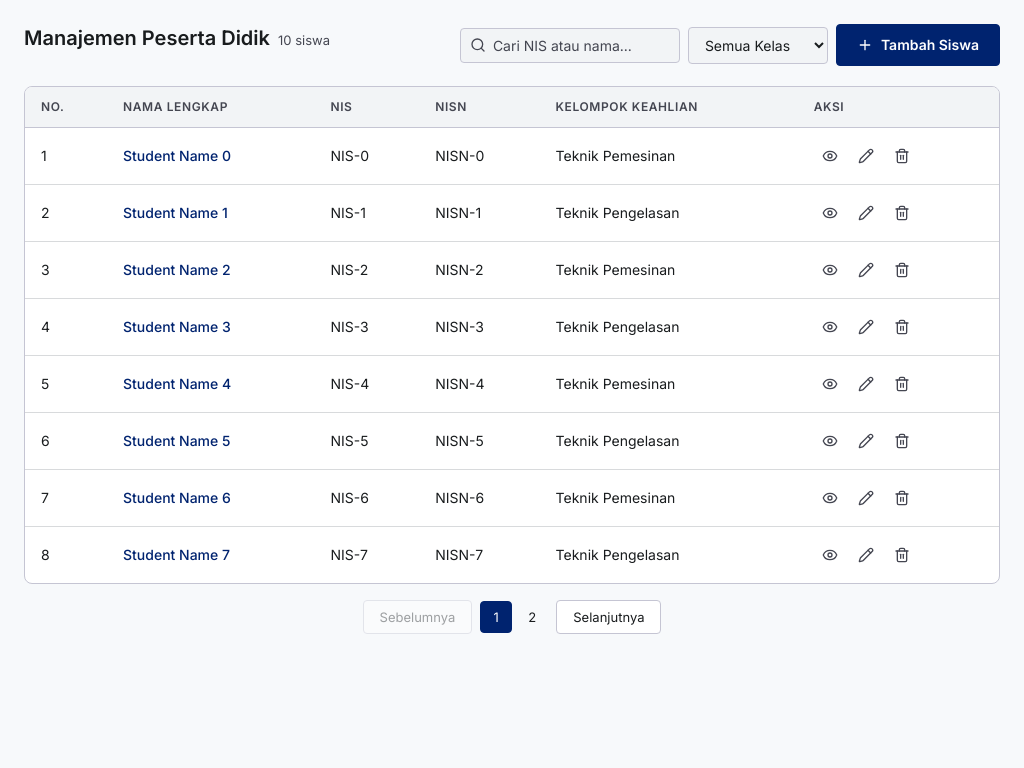
Test: Student List Page › handles search queries correctly
Expected: the link "Student Name 0" is shown, [123,147,231,164]
# Search by name
Type "Student Name 3" into the search field with placeholder "Cari NIS atau nama..." at (570, 45), box [460,28,680,62]
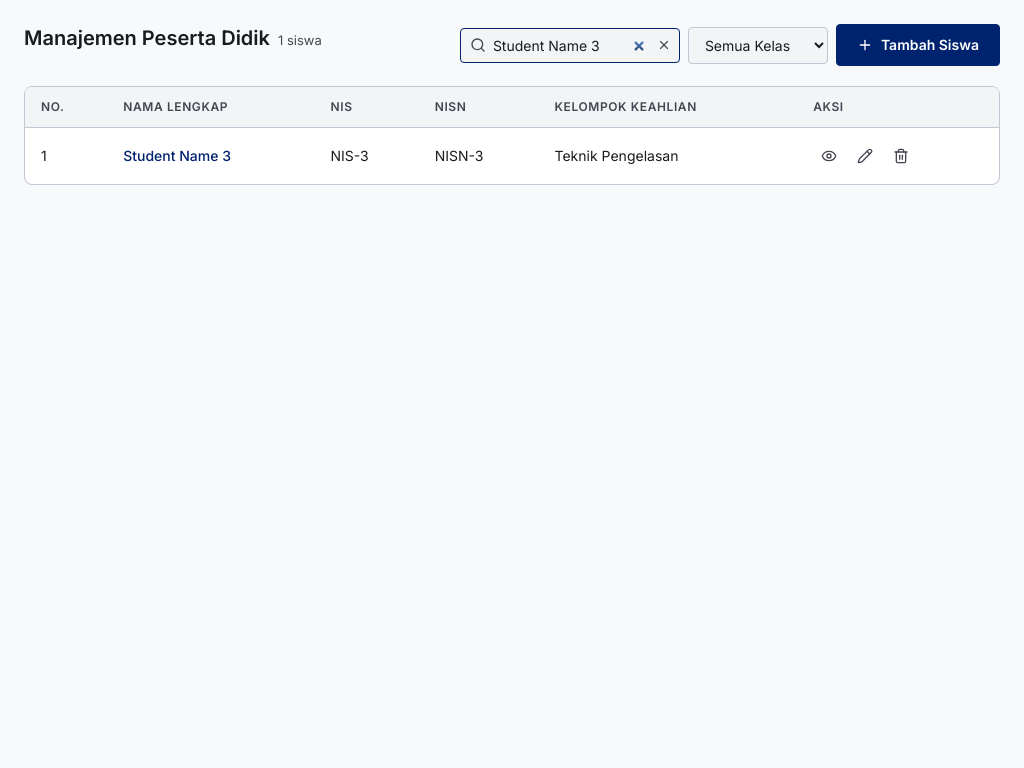
Expected: the link "Student Name 3" is shown, [123,147,231,164]
Expected: the link "Student Name 0" is gone
Expected: the text "1 siswa" is shown, [278,31,322,49]
# Clear search
Click the button named "Hapus pencarian" at (664, 45), box [654,35,674,55]
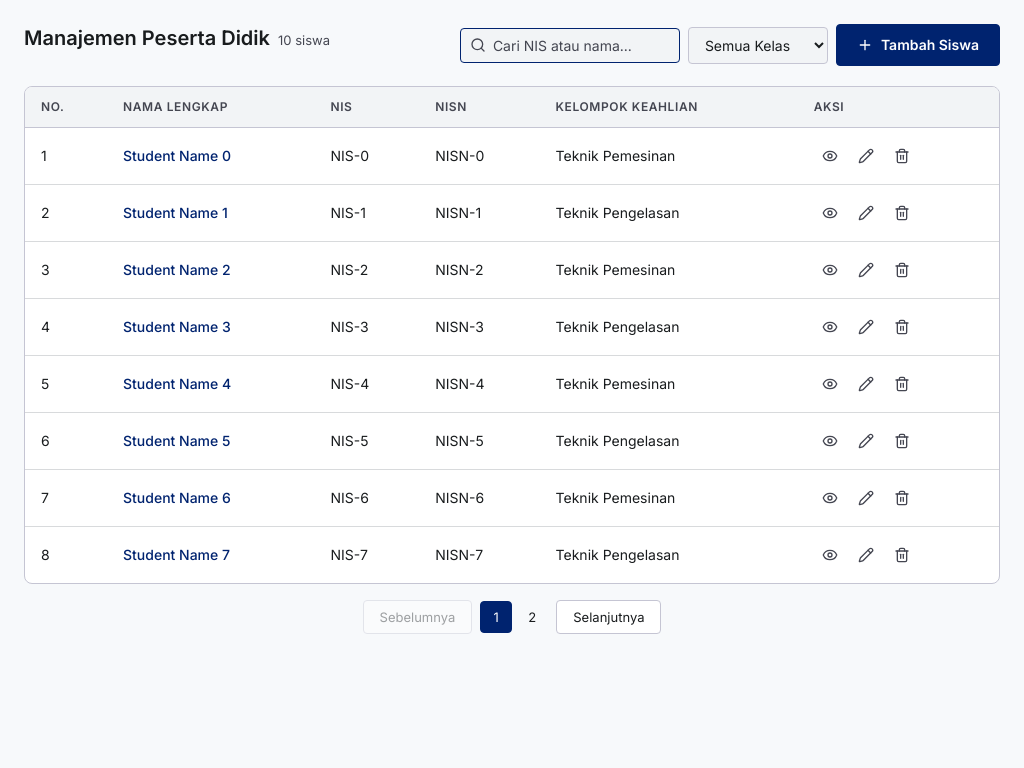
Expected: the link "Student Name 0" is shown, [123,147,231,164]
# Search by NIS
Type "NIS-9" into the search field with placeholder "Cari NIS atau nama..." at (570, 45), box [460,28,680,62]
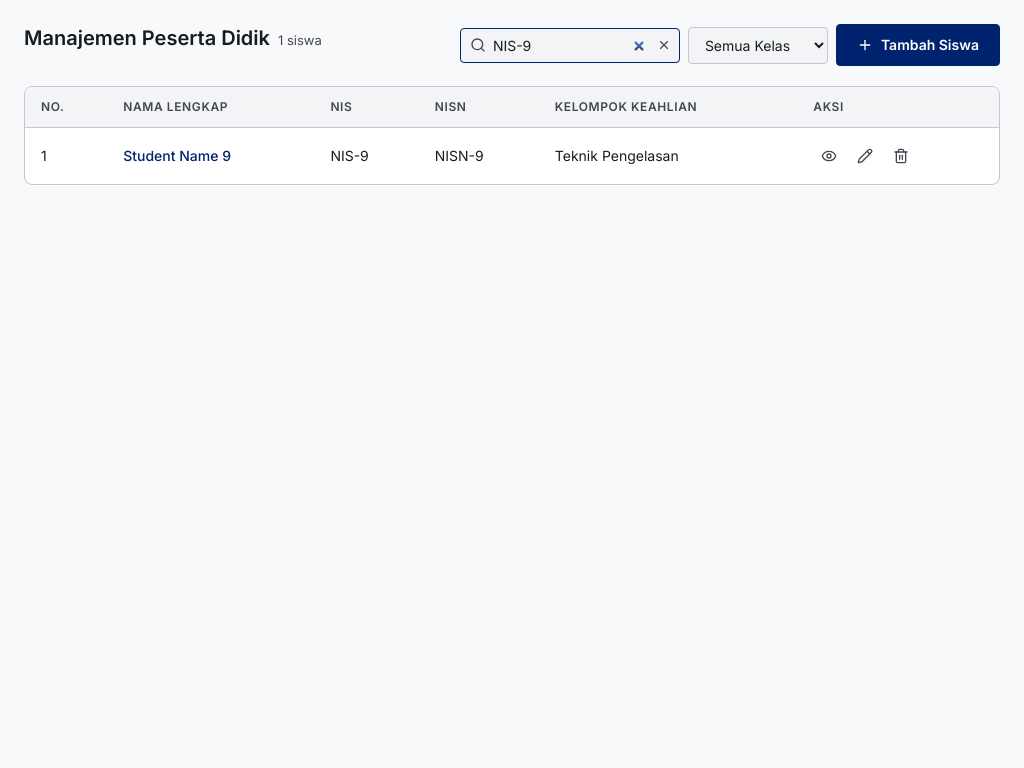
Expected: the link "Student Name 9" is shown, [123,147,231,164]
Expected: the link "Student Name 0" is gone
